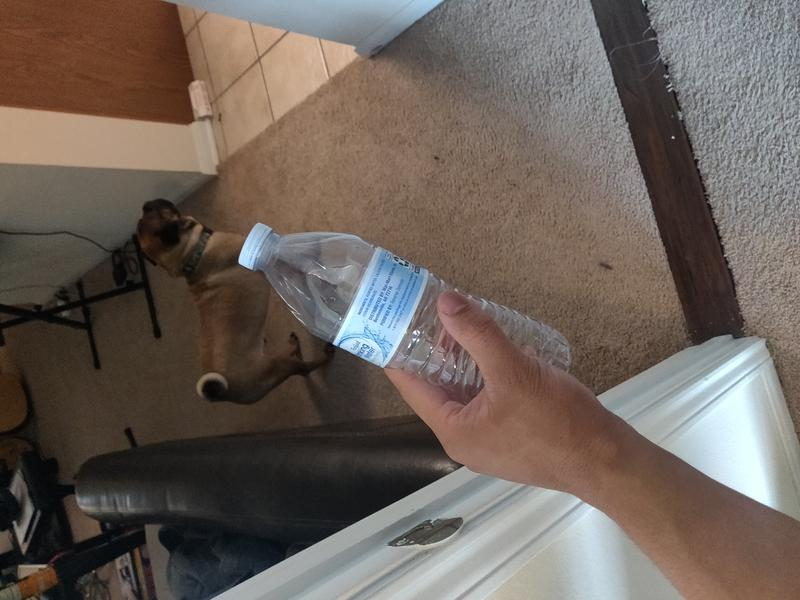bottle: (238, 223, 572, 405)
